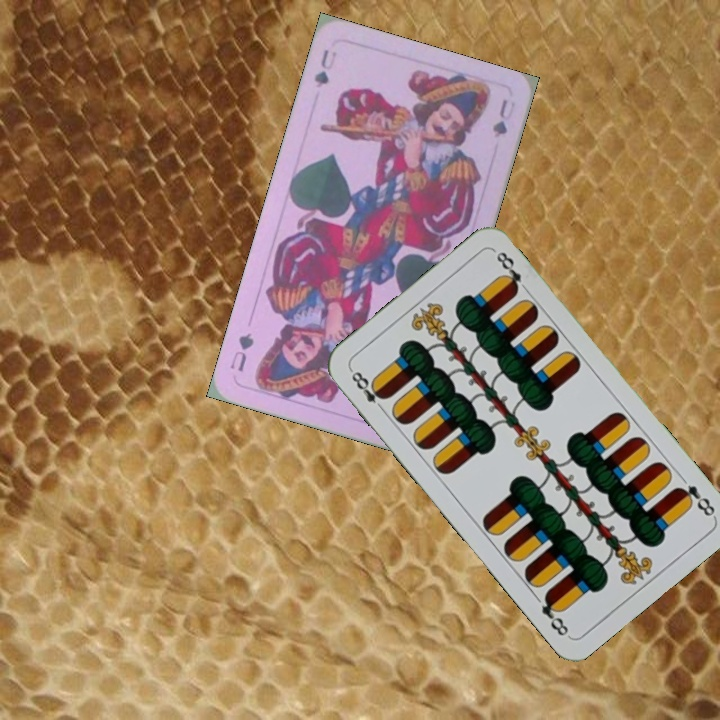E8: (346, 365, 390, 415), (671, 480, 718, 519)
GU: (310, 45, 340, 90)
